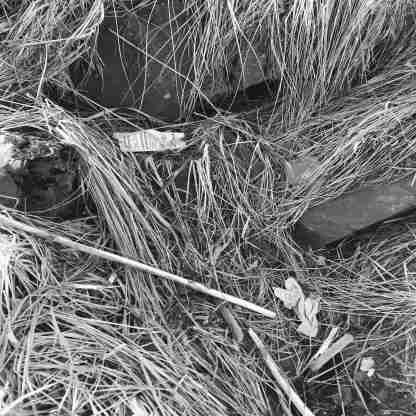plastic: (273, 272, 321, 340), (113, 124, 188, 155), (277, 155, 333, 192)
